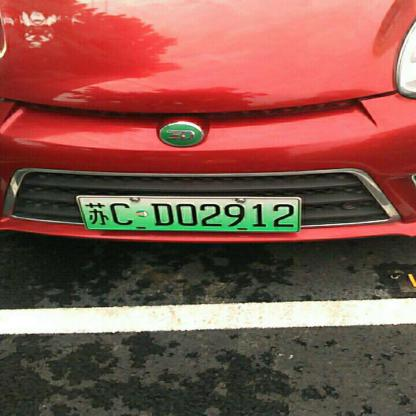lp: (77, 196, 298, 232)
